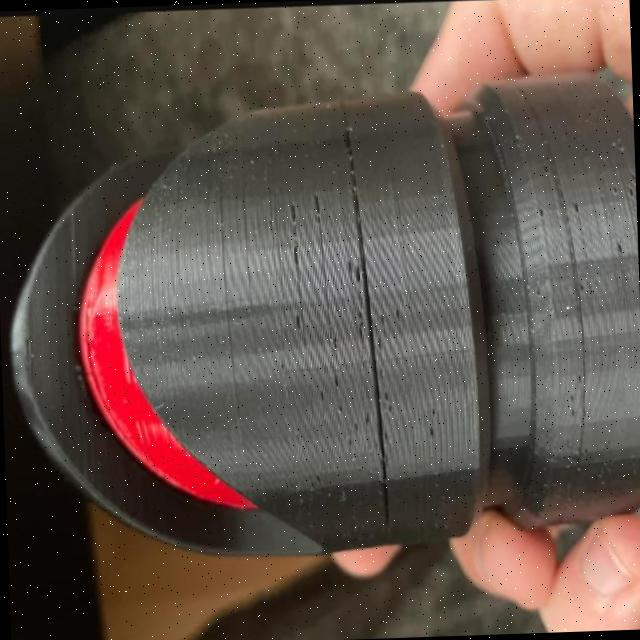cracks: (316, 118, 395, 531)
